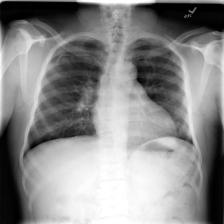normal: (17, 30, 200, 162)
